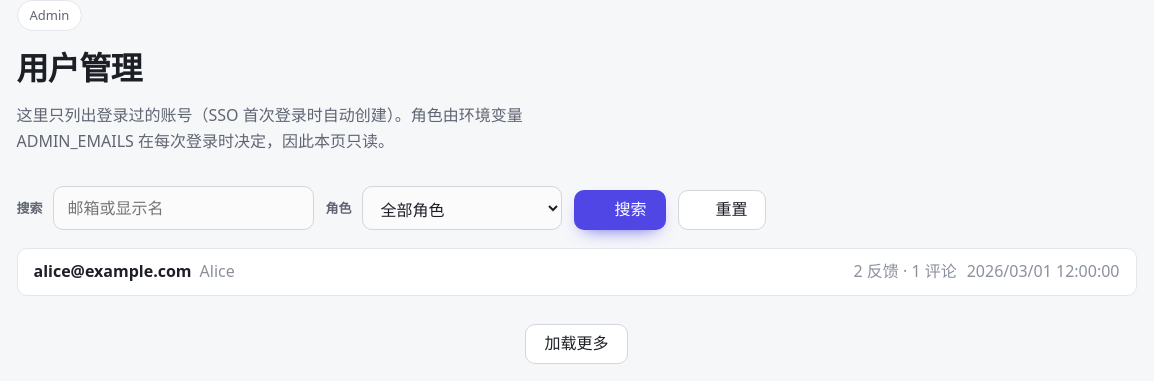
Scenario: AdminUsersView 用户目录 › 搜索时丢弃旧游标并从第一页重新加载
In the search field labelled "搜索": (183, 208) [52,186,314,230], type "bob"
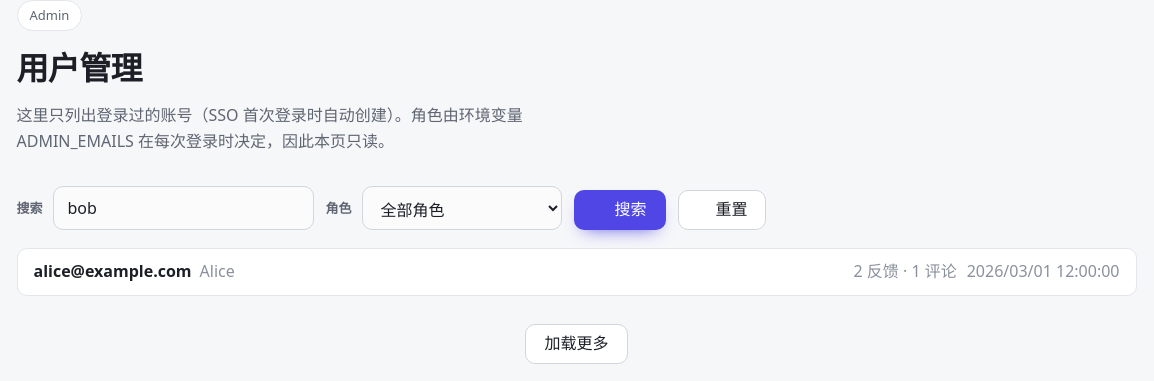
Submit the form, box [16,186,766,230]
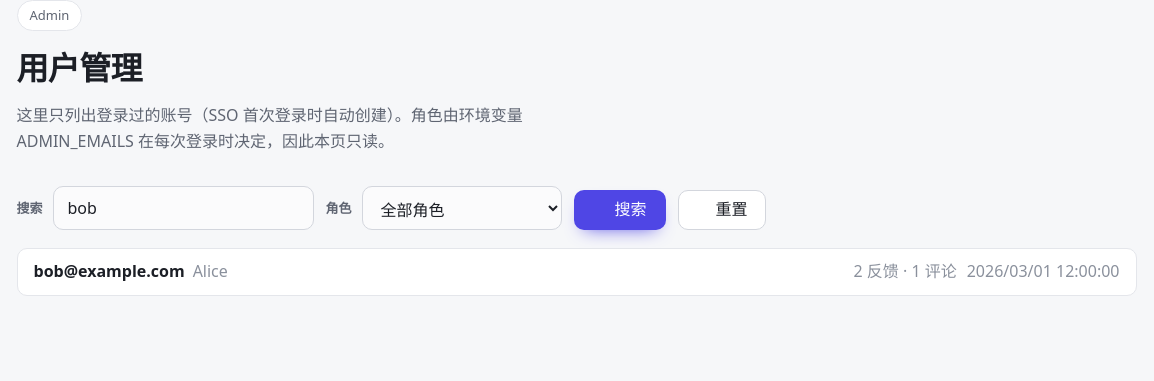
Expected: the text "bob@example.com" is shown, [34,259,185,285]
Expected: the text "alice@example.com" is gone
